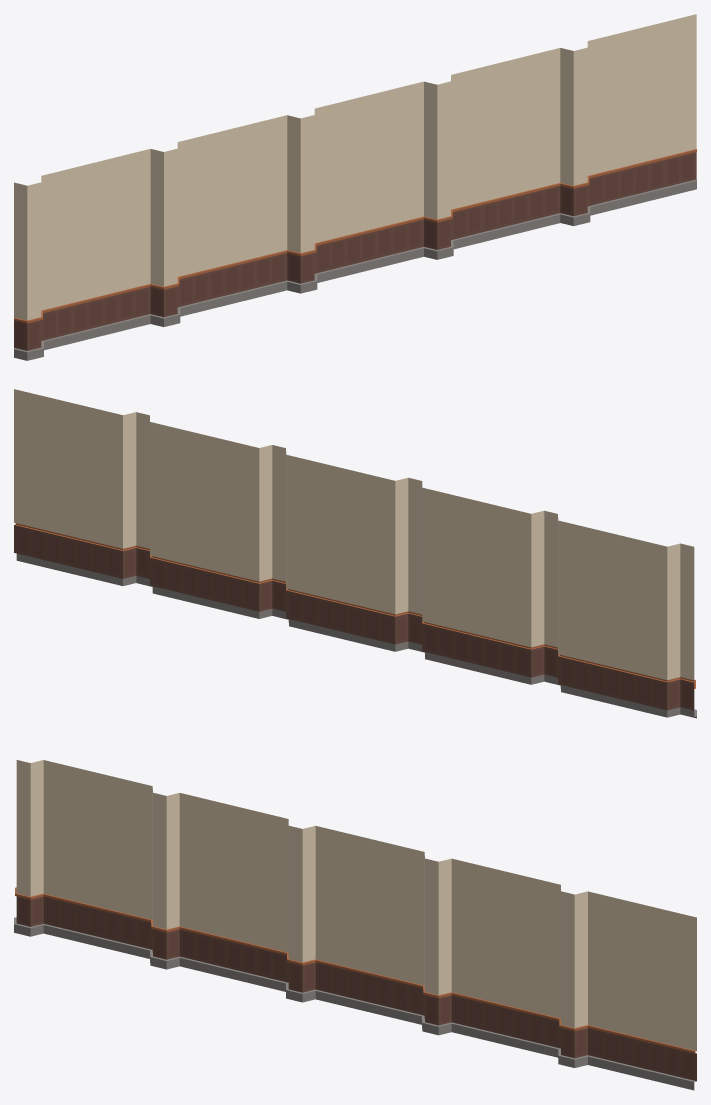
The model's file is Endwall.fbx.
3 renders of one model, top to bottom at view 1: azimuth 30°, elevation 25°; view 2: azimuth 150°, elevation 25°; view 3: azimuth 330°, elevation 25°, orthographic.
Parts seen in each view (by area): view 1: Endwall; view 2: Endwall; view 3: Endwall.
Part boxes in pixels (left/top/right/bottom): Endwall: left=14, top=14, right=696, bottom=360; Endwall: left=14, top=389, right=696, bottom=718; Endwall: left=14, top=760, right=696, bottom=1090.
Size of the model in its own units: 2060 by 499 by 51.16.
1 material, 1 textured.
